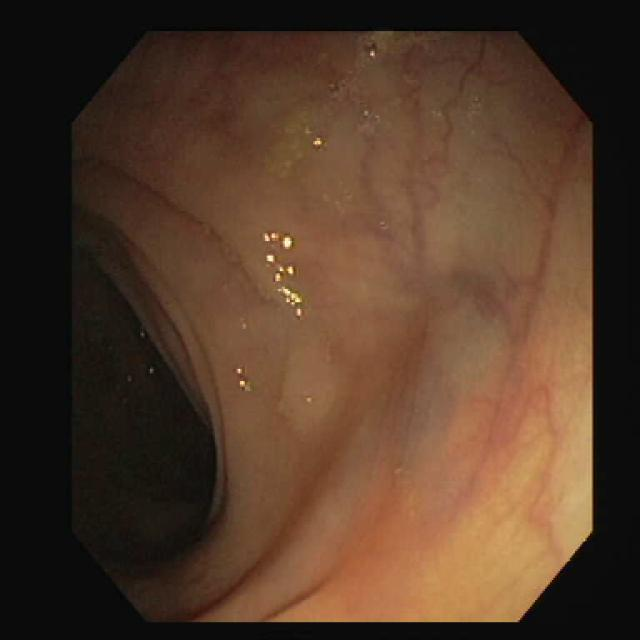tumor: (280, 320, 357, 440)
